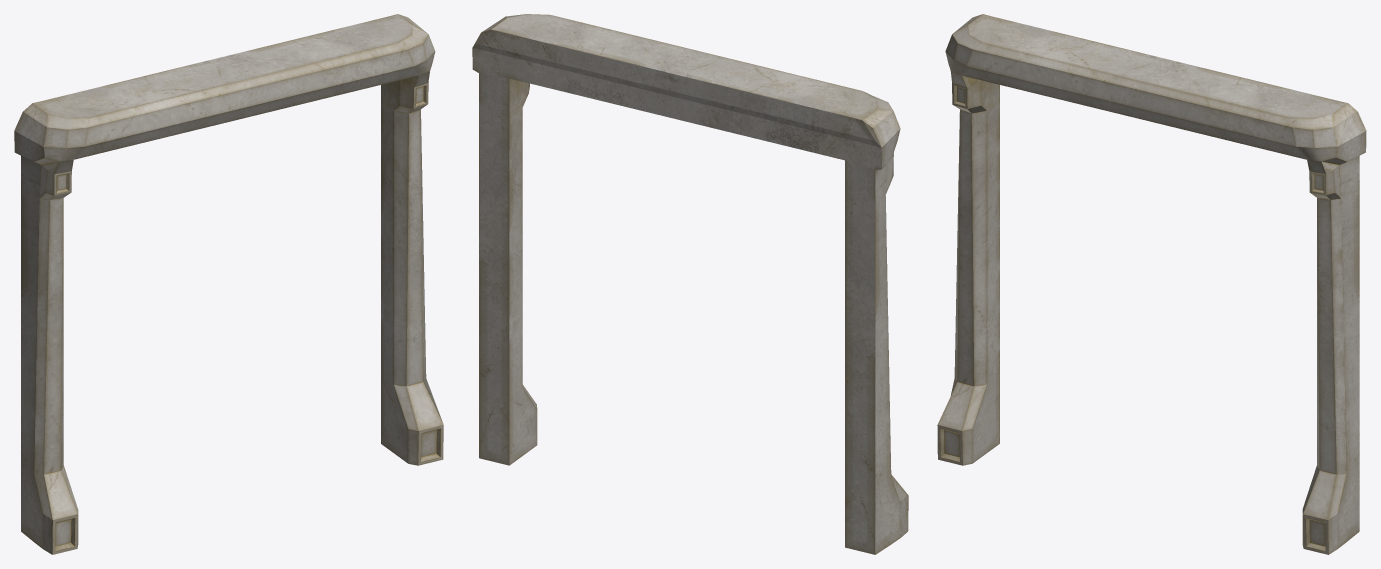
Rendered from Door frame.fbx.
3 renders of one model, left to right at view 1: azimuth 30°, elevation 25°; view 2: azimuth 150°, elevation 25°; view 3: azimuth 330°, elevation 25°, orthographic.
Parts seen in each view (by area): view 1: door_rfame; view 2: door_rfame; view 3: door_rfame.
Boxes of the visible parts, x1,y1,x2,y2 form: door_rfame: (14, 14, 443, 554); door_rfame: (472, 14, 908, 554); door_rfame: (937, 14, 1366, 554).
Size of the model in its own units: 195 by 196 by 28.83.
